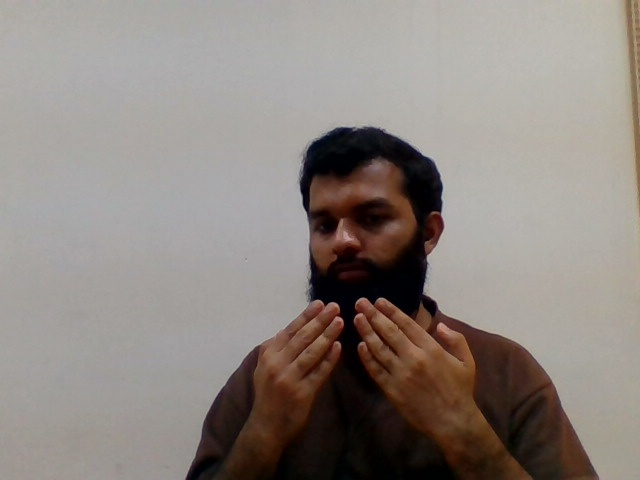Thank You: (191, 168, 550, 436)
